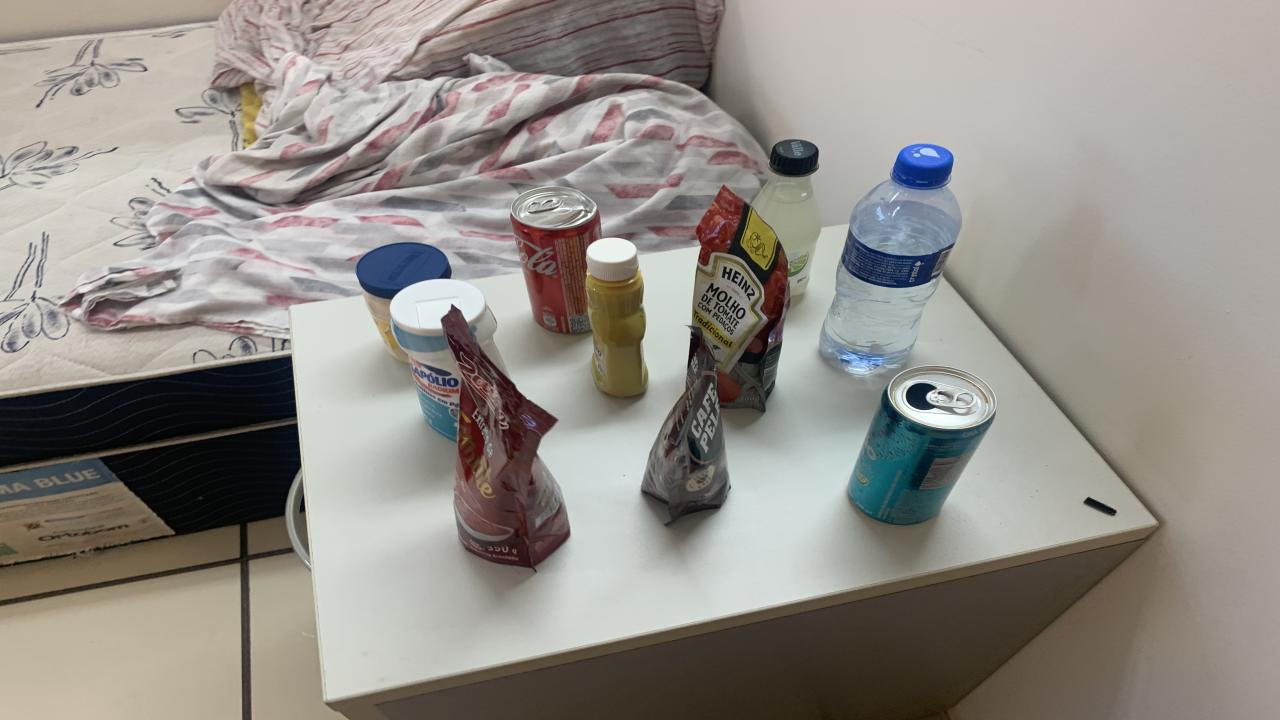Cleaner-Cleanup_Items: (390, 279, 508, 441)
Coffee-Pantry_Items: (642, 326, 730, 523)
Coke-Drinks: (510, 186, 602, 334)
Mayonnaise-Pantry_Items: (355, 242, 450, 349)
Mustard-Pantry_Items: (585, 238, 648, 398)
Soda-Drinks: (752, 139, 820, 296)
Tea-Drinks: (848, 366, 998, 525)
Tomato_Sauce-Pantry_Items: (442, 308, 570, 568), (692, 186, 790, 411)
Water_Bottle-Drinks: (820, 142, 962, 375)
